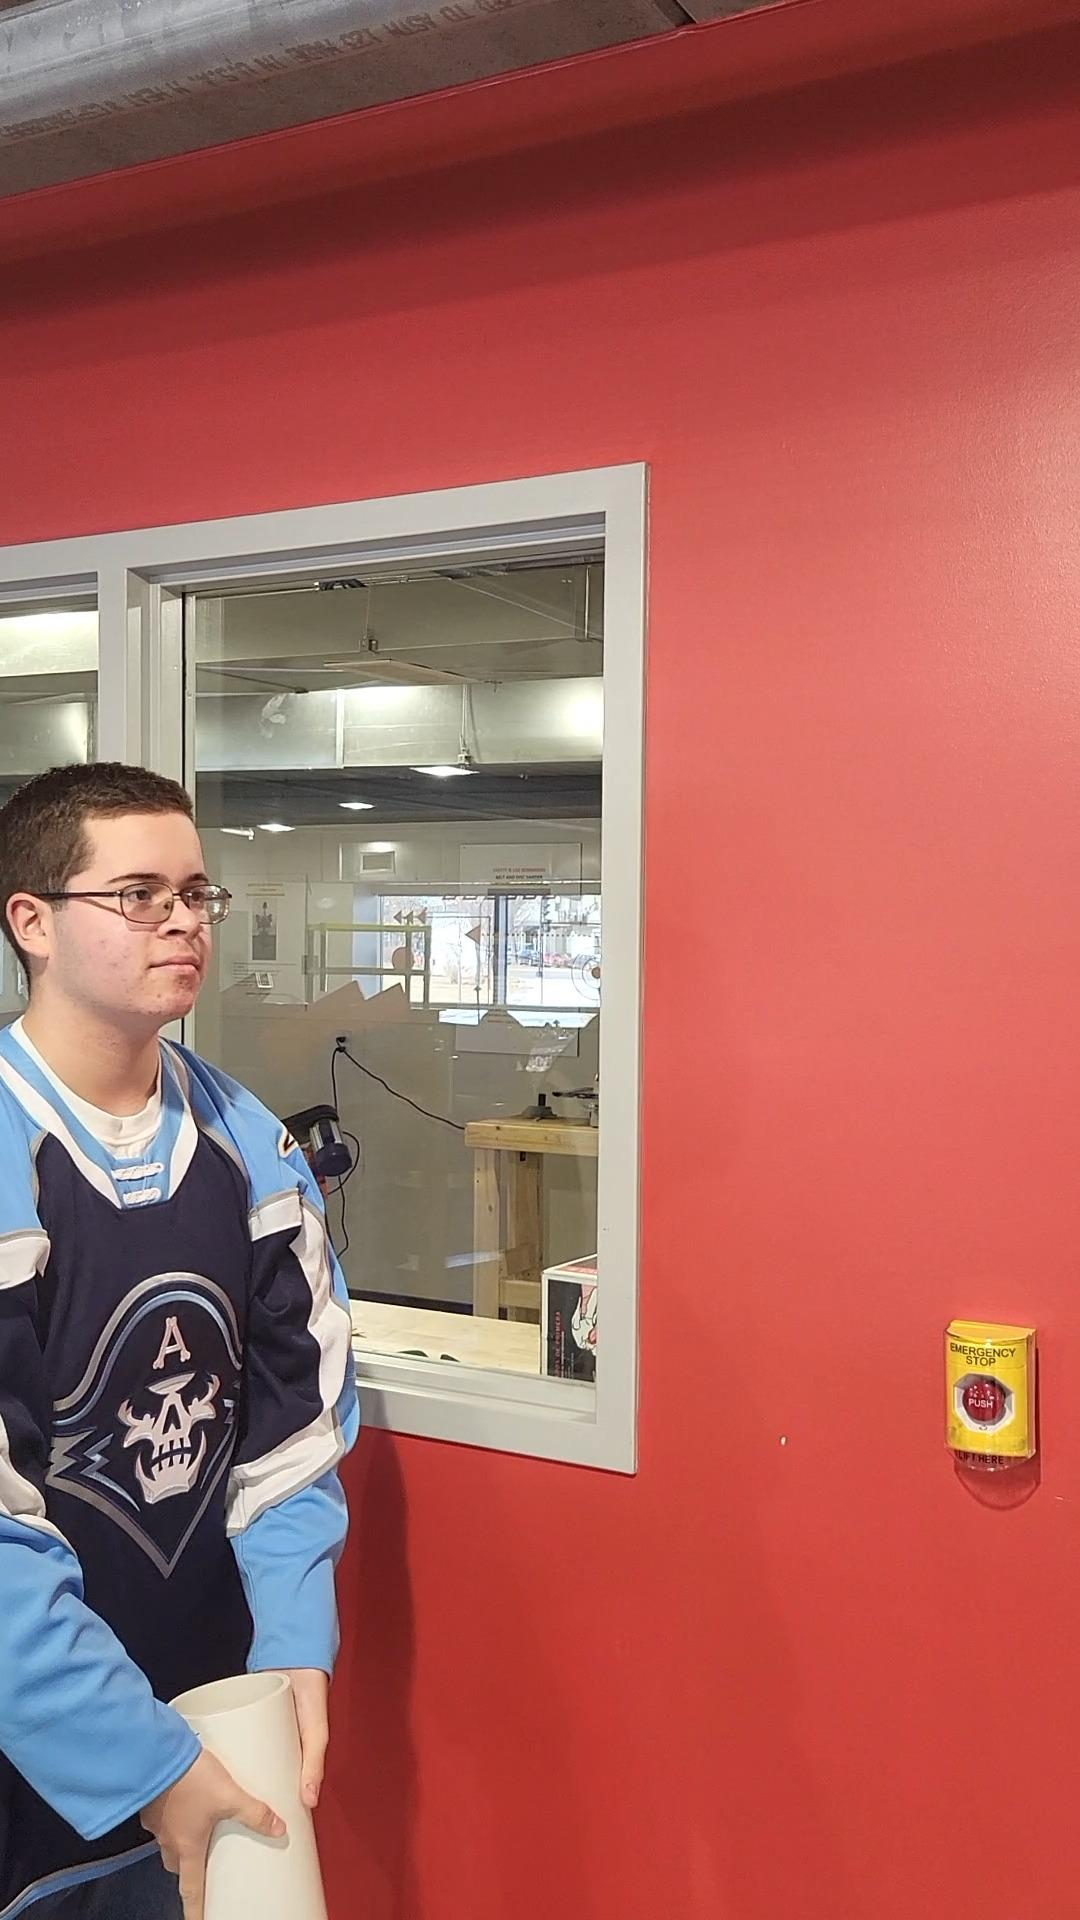coral: (170, 1663, 343, 1920)
